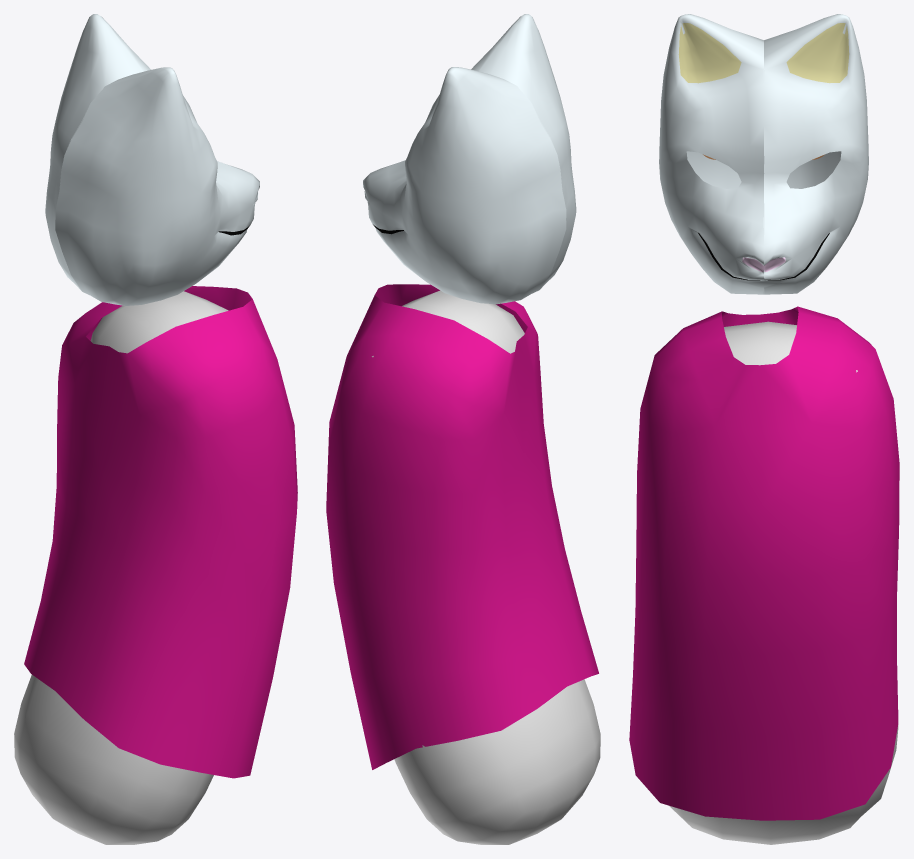
File: NPC 0.fbx
3 views of the same model, side by side, from view 1: azimuth 30°, elevation 25°; view 2: azimuth 150°, elevation 25°; view 3: azimuth 270°, elevation 25° (orthographic). The views are drawn at different scales.
Visible parts, largest first — view 1: T-shirt, Mask, body; view 2: T-shirt, Mask, body; view 3: T-shirt, Mask, body.
Boxes of the visible parts, x1,y1,x2,y2 form: T-shirt: (24, 286, 297, 778); Mask: (45, 14, 259, 305); body: (14, 291, 228, 844); T-shirt: (326, 284, 598, 769); Mask: (363, 14, 576, 304); body: (372, 290, 600, 844); T-shirt: (629, 306, 899, 820); Mask: (659, 14, 868, 294); body: (669, 321, 898, 844).
Size of the model in its own units: 2.26 by 7.21 by 2.12.
